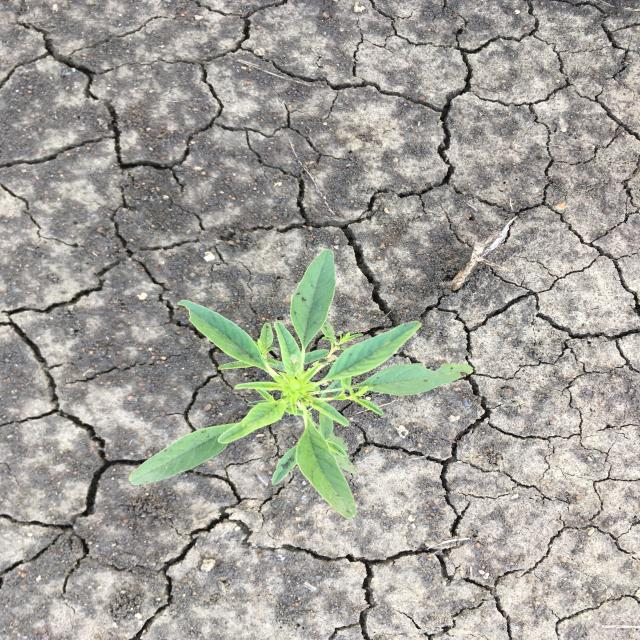Waterhemp: (127, 247, 477, 523)
